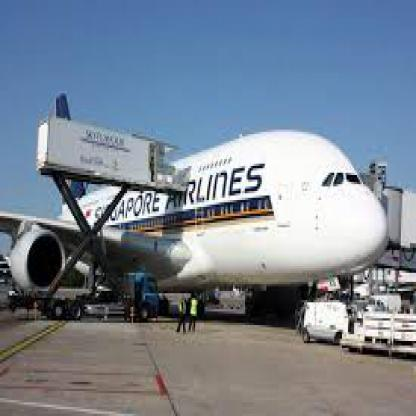Catering truck: (26, 97, 198, 327)
